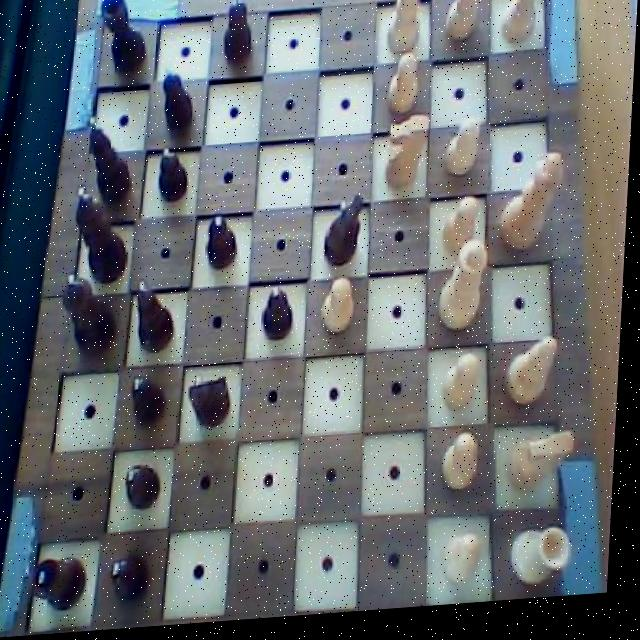bishop: (80, 113, 138, 212), (134, 277, 182, 358)
black-bishop: (71, 181, 137, 290)
black-king: (321, 195, 371, 276), (188, 371, 240, 435)
black-knight: (112, 551, 162, 609), (160, 68, 200, 138), (130, 373, 174, 433), (204, 213, 246, 275), (222, 0, 258, 70), (156, 145, 194, 209), (263, 288, 301, 352), (127, 463, 171, 514)
black-pawn: (59, 269, 124, 365)
black-queen: (98, 0, 152, 80), (36, 552, 96, 615)
black-rook: (505, 341, 565, 420), (385, 0, 426, 63)
white-bishop: (499, 157, 569, 262)
white-king: (507, 437, 581, 506), (383, 119, 433, 198)
white-knight: (444, 435, 488, 501), (321, 278, 363, 345), (444, 121, 485, 188), (445, 357, 484, 424), (445, 535, 489, 593), (444, 200, 484, 261), (445, 0, 486, 50)
white-pawn: (440, 244, 495, 342)
white-queen: (513, 528, 583, 601), (496, 0, 552, 56)
